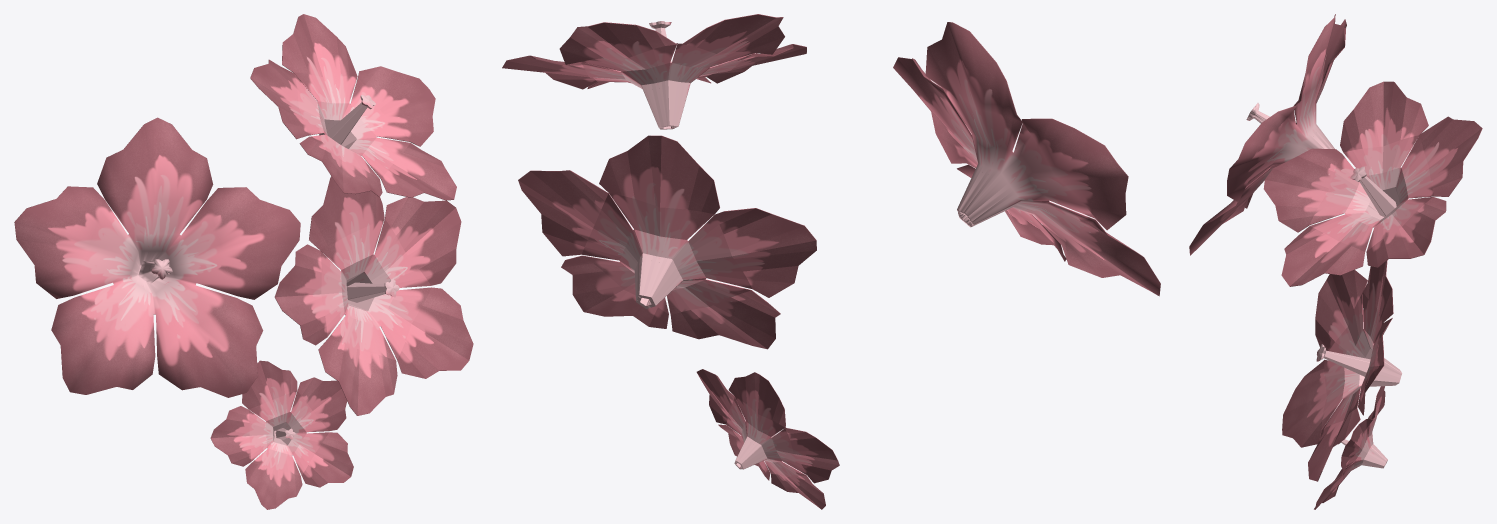
Rendered from Hibiskus_Blüten_MOD.FBX.
3 views of the same model, side by side, from view 1: azimuth 30°, elevation 25°; view 2: azimuth 150°, elevation 25°; view 3: azimuth 270°, elevation 25° (orthographic). The views are drawn at different scales.
Visible parts, largest first — view 1: Blüten; view 2: Blüten; view 3: Blüten.
Part boxes in pixels (box(x1,y1,x2,y2)): Blüten: box(14, 14, 473, 509); Blüten: box(502, 14, 1160, 509); Blüten: box(1189, 14, 1482, 509).
Bounding box in the file's own units: 1820 × 1561 × 983.
1 material, 1 textured.
